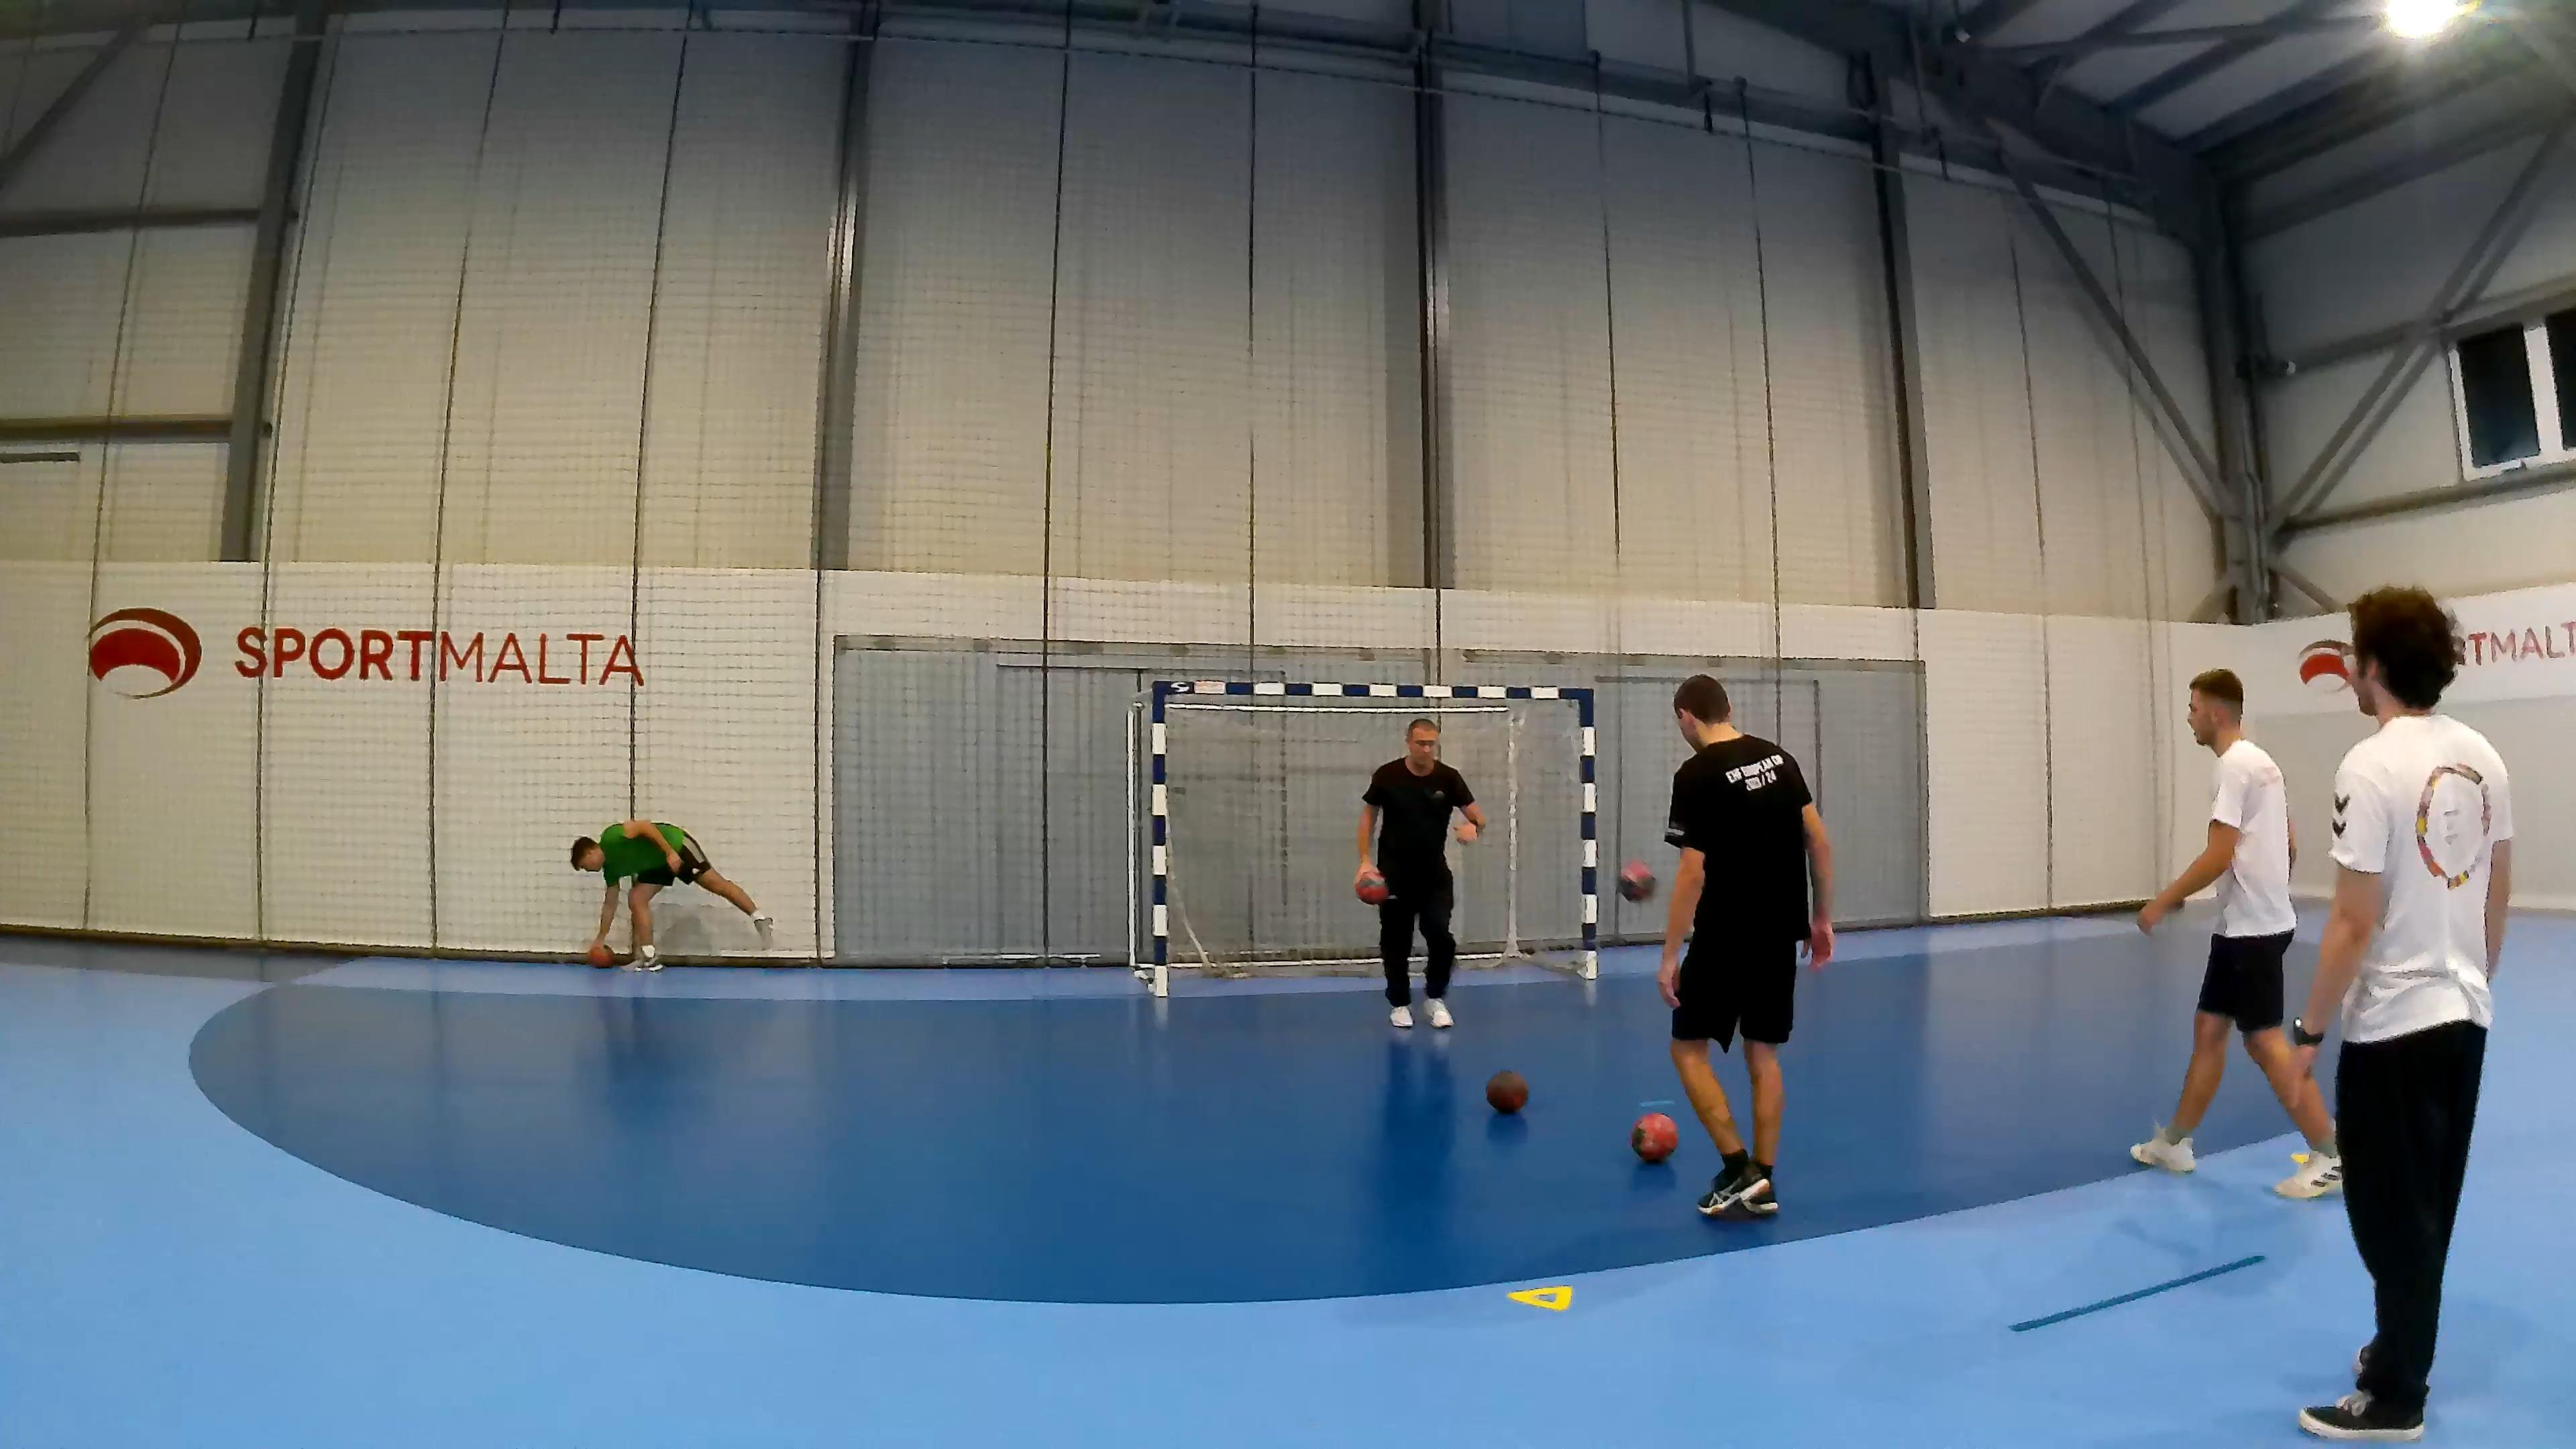handball: (1629, 1111, 1677, 1161), (1348, 865, 1396, 909), (1484, 1069, 1529, 1113), (1615, 860, 1654, 902)
